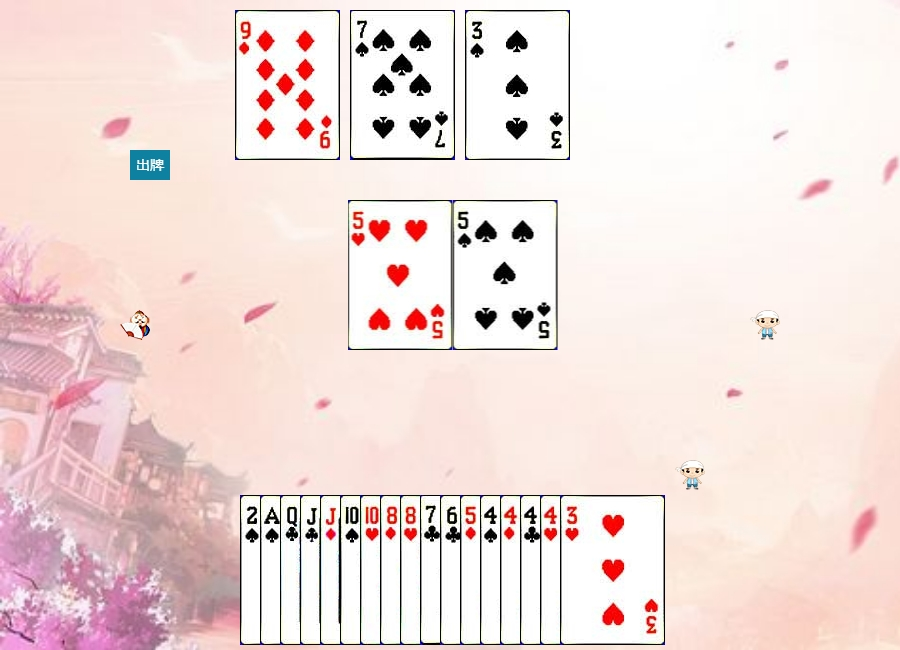10~3: (360, 495, 465, 645)
10~4: (340, 495, 445, 645)
11~1: (320, 495, 425, 645)
11~2: (300, 495, 405, 645)
12~2: (280, 495, 385, 645)
14~4: (260, 495, 365, 645)
15~4: (240, 495, 345, 645)
3~3: (560, 495, 665, 645)
3~4: (465, 10, 570, 160)
4~1: (500, 495, 605, 645)
4~2: (520, 495, 625, 645)
4~3: (540, 495, 645, 645)
4~4: (480, 495, 585, 645)
5~1: (460, 495, 565, 645)
5~3: (348, 200, 453, 350)
5~4: (453, 200, 558, 350)
6~2: (440, 495, 545, 645)
7~2: (420, 495, 525, 645)
7~4: (350, 10, 455, 160)
8~1: (380, 495, 485, 645)
8~3: (400, 495, 505, 645)
9~1: (235, 10, 340, 160)
